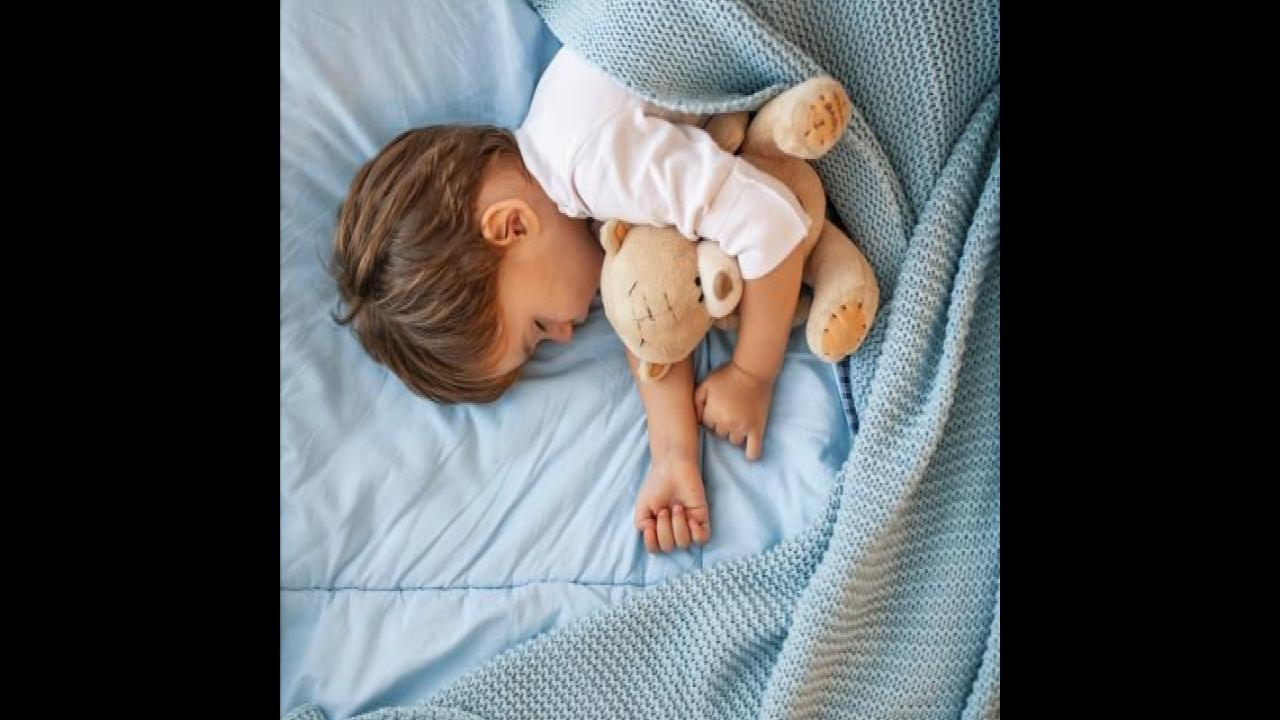hand: (697, 360, 775, 454), (637, 458, 707, 552)
